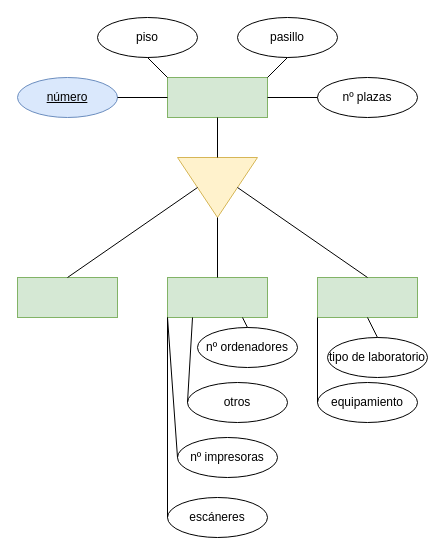
The diagram is 445 pixels wide and 555 high, and some of its shapes have lost their labels. The shapes that lost their labels are listed below. From the top down, each one's box as (x1, y1, x2, y2) in pixels, then its label:
(166, 76, 268, 118): aula
(16, 276, 118, 318): común
(166, 276, 268, 318): ordenadores
(316, 276, 418, 318): laboratorio
